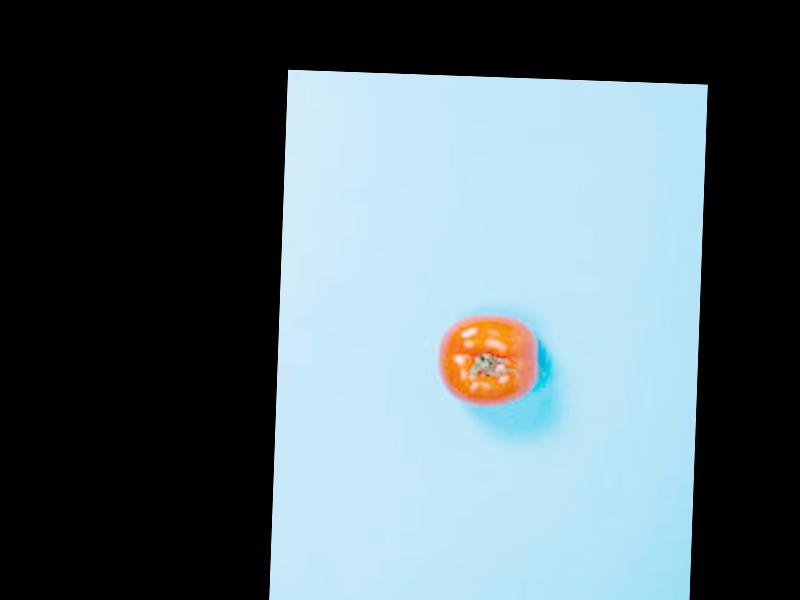Tomato: (434, 313, 539, 411)
